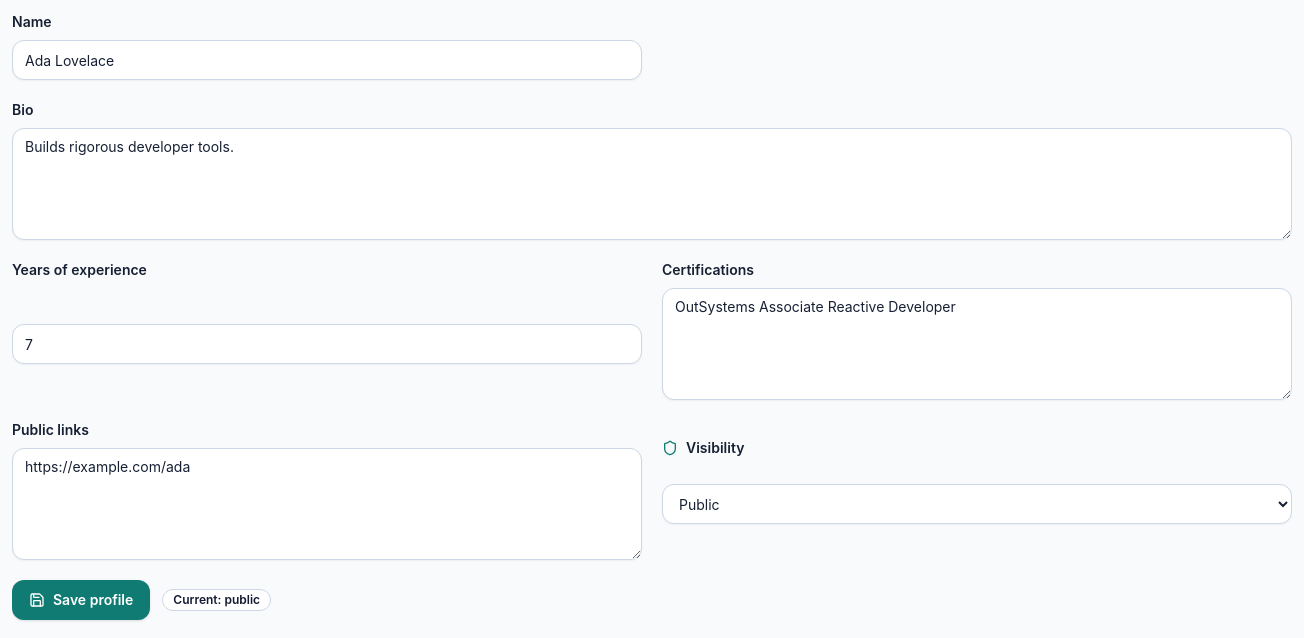
Test case: ProfileEditor › displays API validation errors for visibility
Click the button "Save profile": (81, 600) [12, 580, 150, 620]
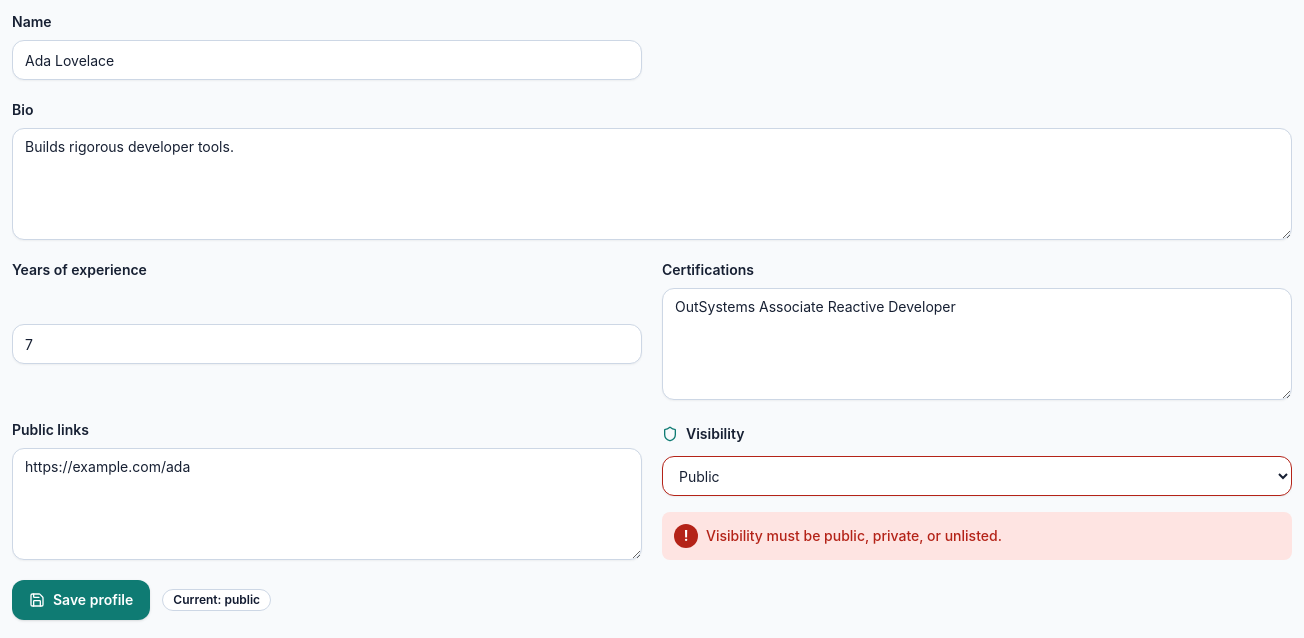
Now the text "Visibility must be public, private, or unlisted." is shown, box [706, 526, 1002, 546]
